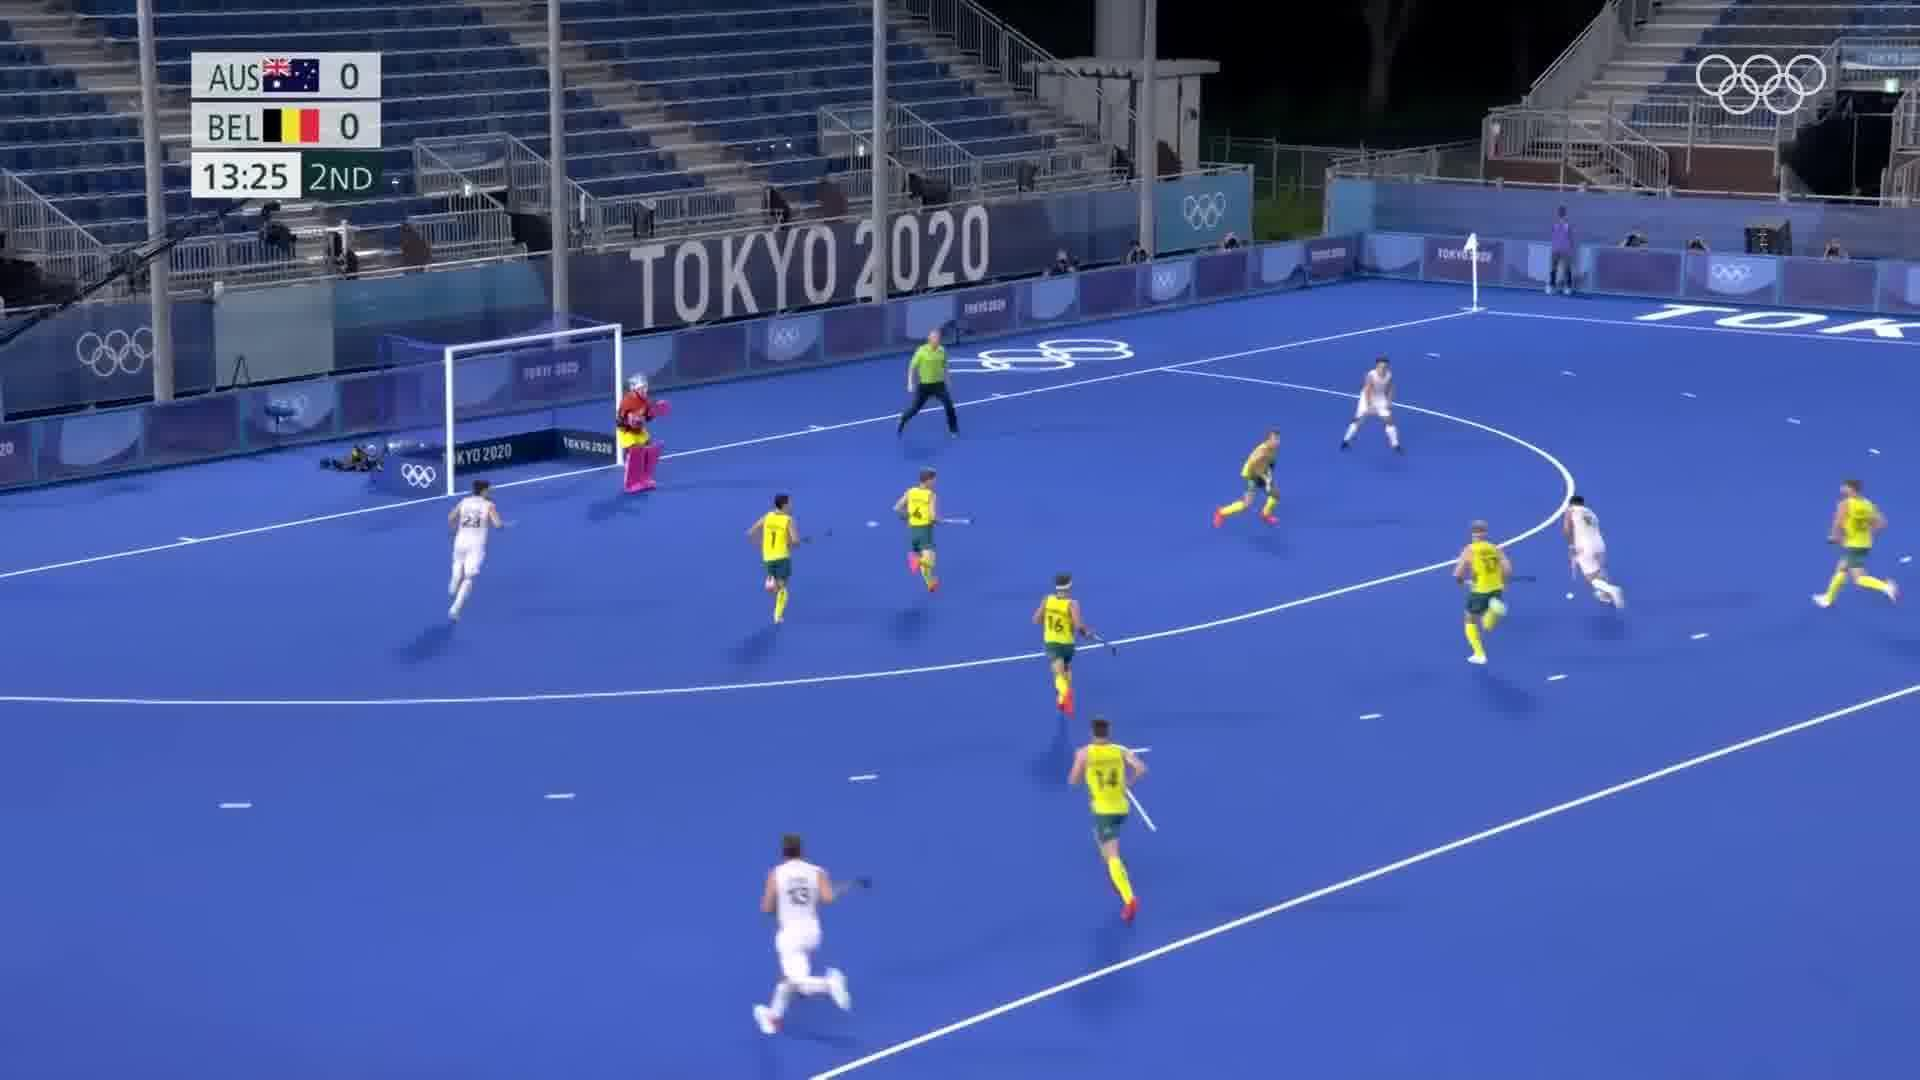ball: (1561, 585, 1577, 605)
